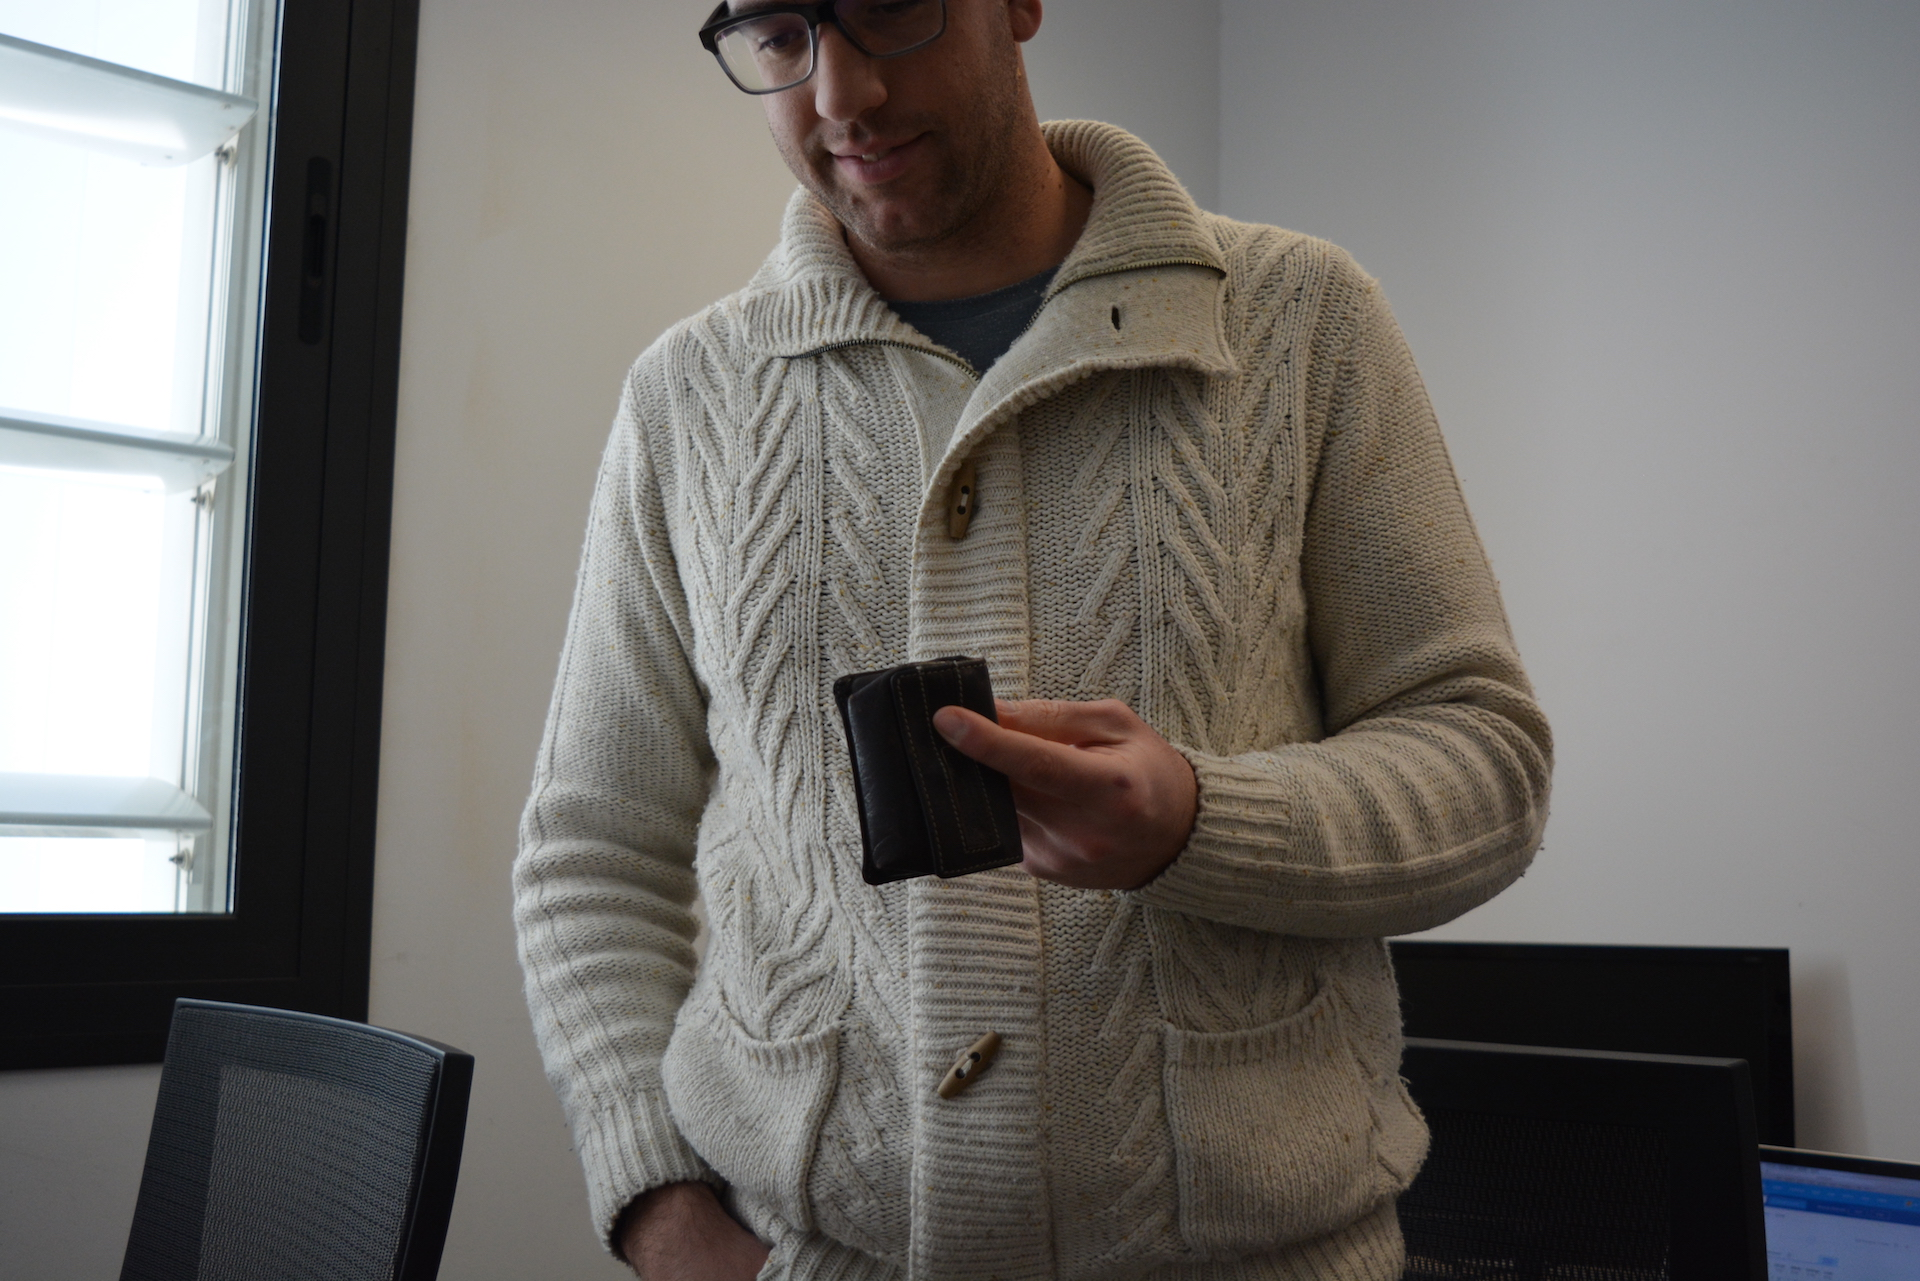monedero: (832, 653, 1026, 888)
